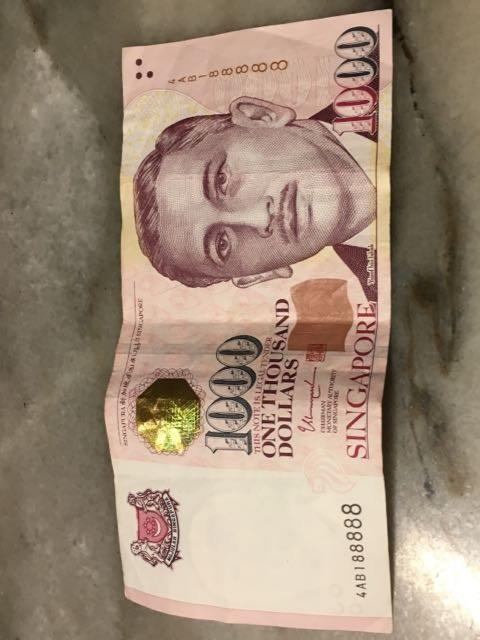1000SingaporeDollar: (125, 26, 382, 630)
